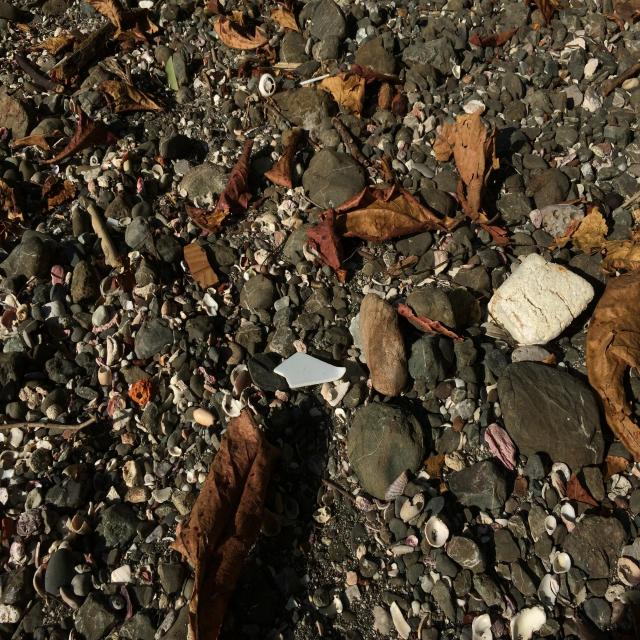Other plastic bottle: (274, 352, 346, 388), (295, 74, 329, 87), (259, 73, 276, 98)
Styrofoam piece: (486, 253, 595, 348)
